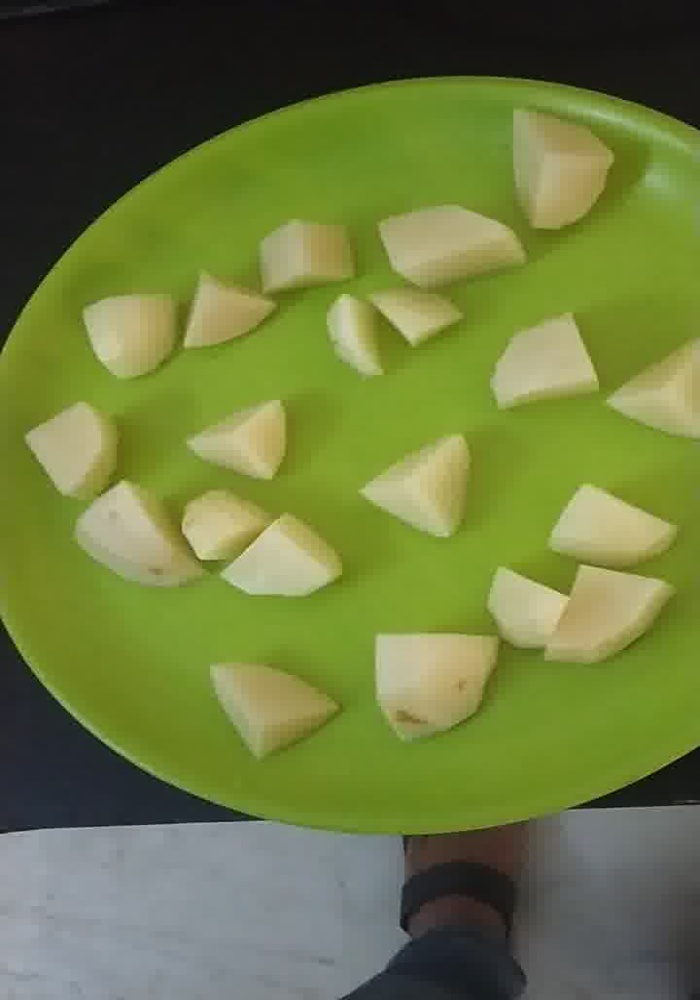potato: (487, 561, 675, 666), (181, 488, 339, 591), (367, 628, 502, 738), (69, 488, 210, 588), (510, 104, 616, 231), (208, 661, 342, 761), (373, 204, 525, 285), (367, 441, 480, 540), (555, 475, 678, 564), (489, 313, 604, 401), (22, 410, 119, 499), (78, 296, 181, 379), (604, 348, 700, 435), (186, 398, 287, 479), (360, 276, 463, 348), (184, 272, 272, 354), (252, 226, 357, 291), (331, 294, 387, 384)
